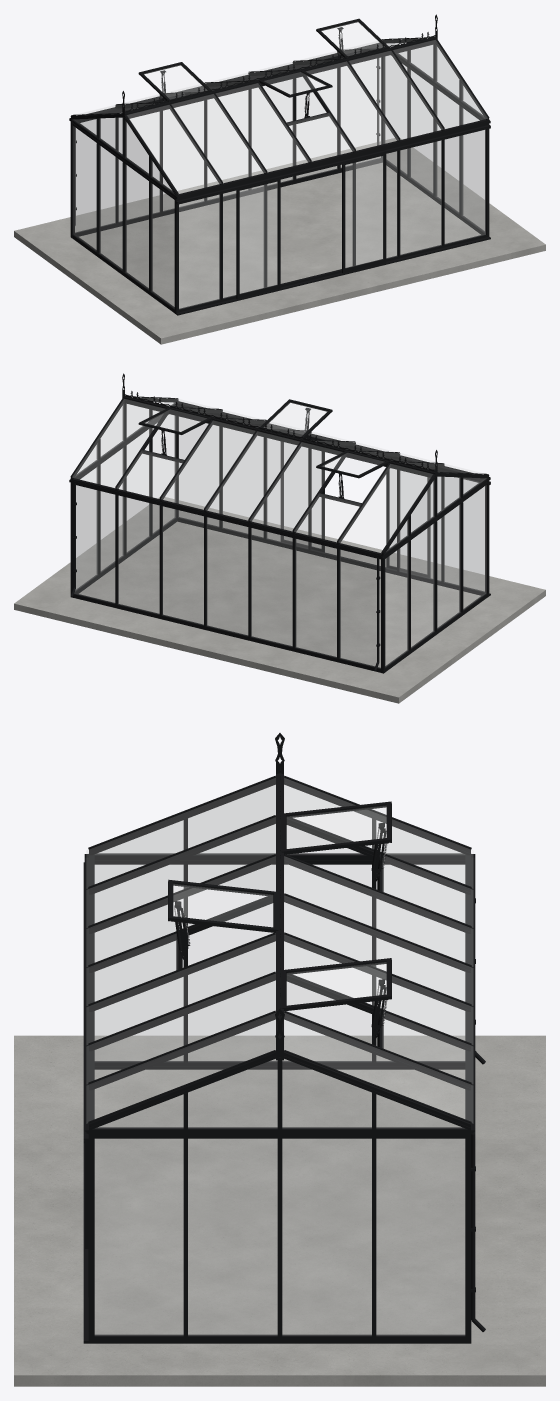
File: sg-rect-10-2-17-6-decor.glb
The picture shows the model from 3 angles, top to bottom: view 1: azimuth 30°, elevation 25°; view 2: azimuth 150°, elevation 25°; view 3: azimuth 270°, elevation 25°; orthographic projection. The views are drawn at different scales.
Parts seen in each view (by area): view 1: scandiglas-rect-10-2-17-6-decor; view 2: scandiglas-rect-10-2-17-6-decor; view 3: scandiglas-rect-10-2-17-6-decor.
Part boxes in pixels (left/top/right/bottom): scandiglas-rect-10-2-17-6-decor: left=14, top=14, right=545, bottom=344; scandiglas-rect-10-2-17-6-decor: left=14, top=373, right=545, bottom=703; scandiglas-rect-10-2-17-6-decor: left=14, top=733, right=545, bottom=1386.
Size of the model in its own units: 6.61 by 3.14 by 4.38.
5 materials, 1 textured.
